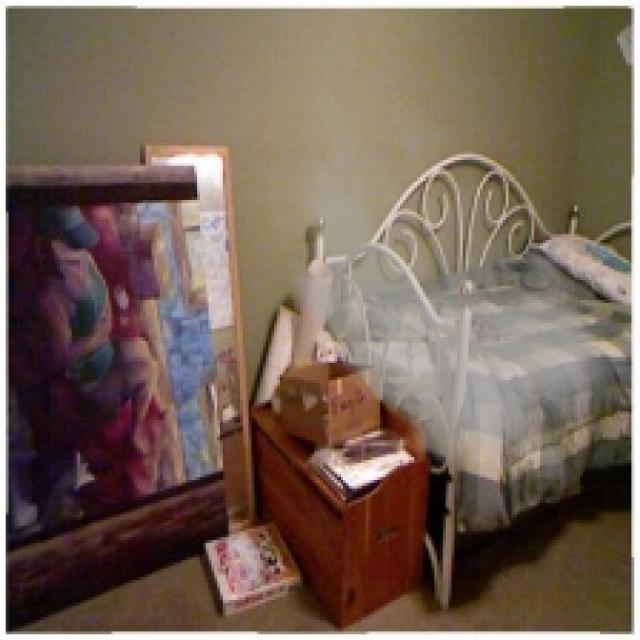smoke: (252, 72, 628, 497)
